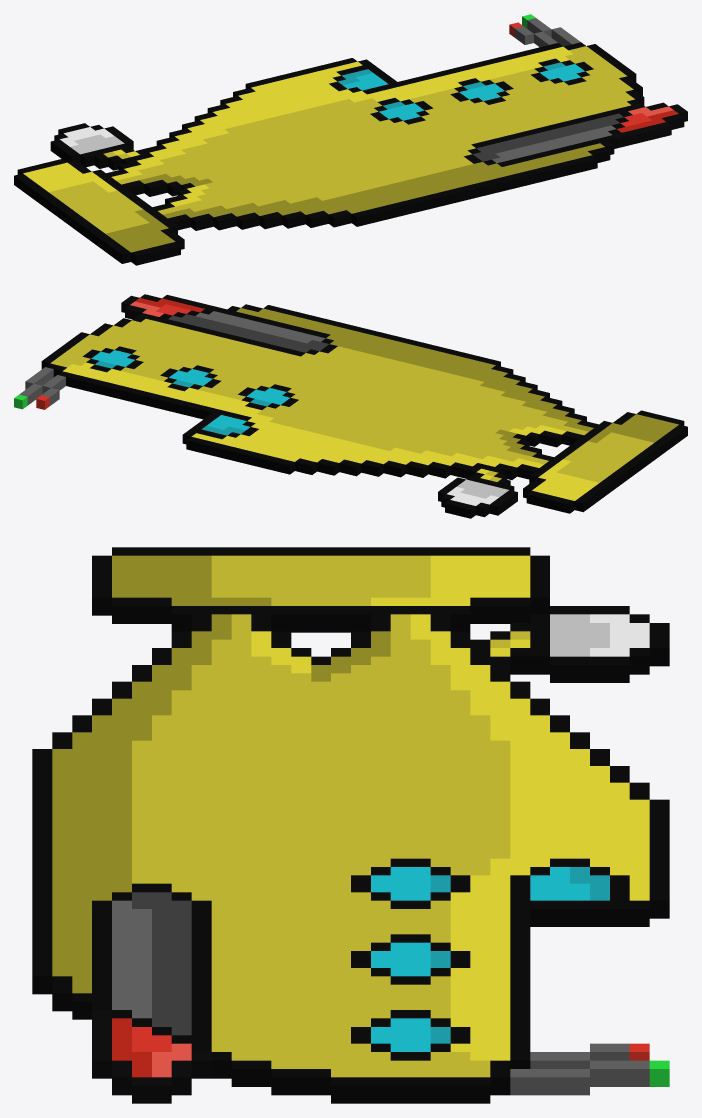
3 views of the same model, one above another, from view 1: azimuth 30°, elevation 25°; view 2: azimuth 150°, elevation 25°; view 3: azimuth 270°, elevation 25° (orthographic). The views are drawn at different scales.
Visible parts, largest first — view 1: img; view 2: img; view 3: img.
Part boxes in pixels (box(x1,y1,x2,y2)): img: box(14, 14, 687, 265); img: box(14, 294, 687, 518); img: box(32, 547, 669, 1103).
Bounding box in the file's own units: 64 × 1 × 32.
Materials: 1 (1 with a texture image).
